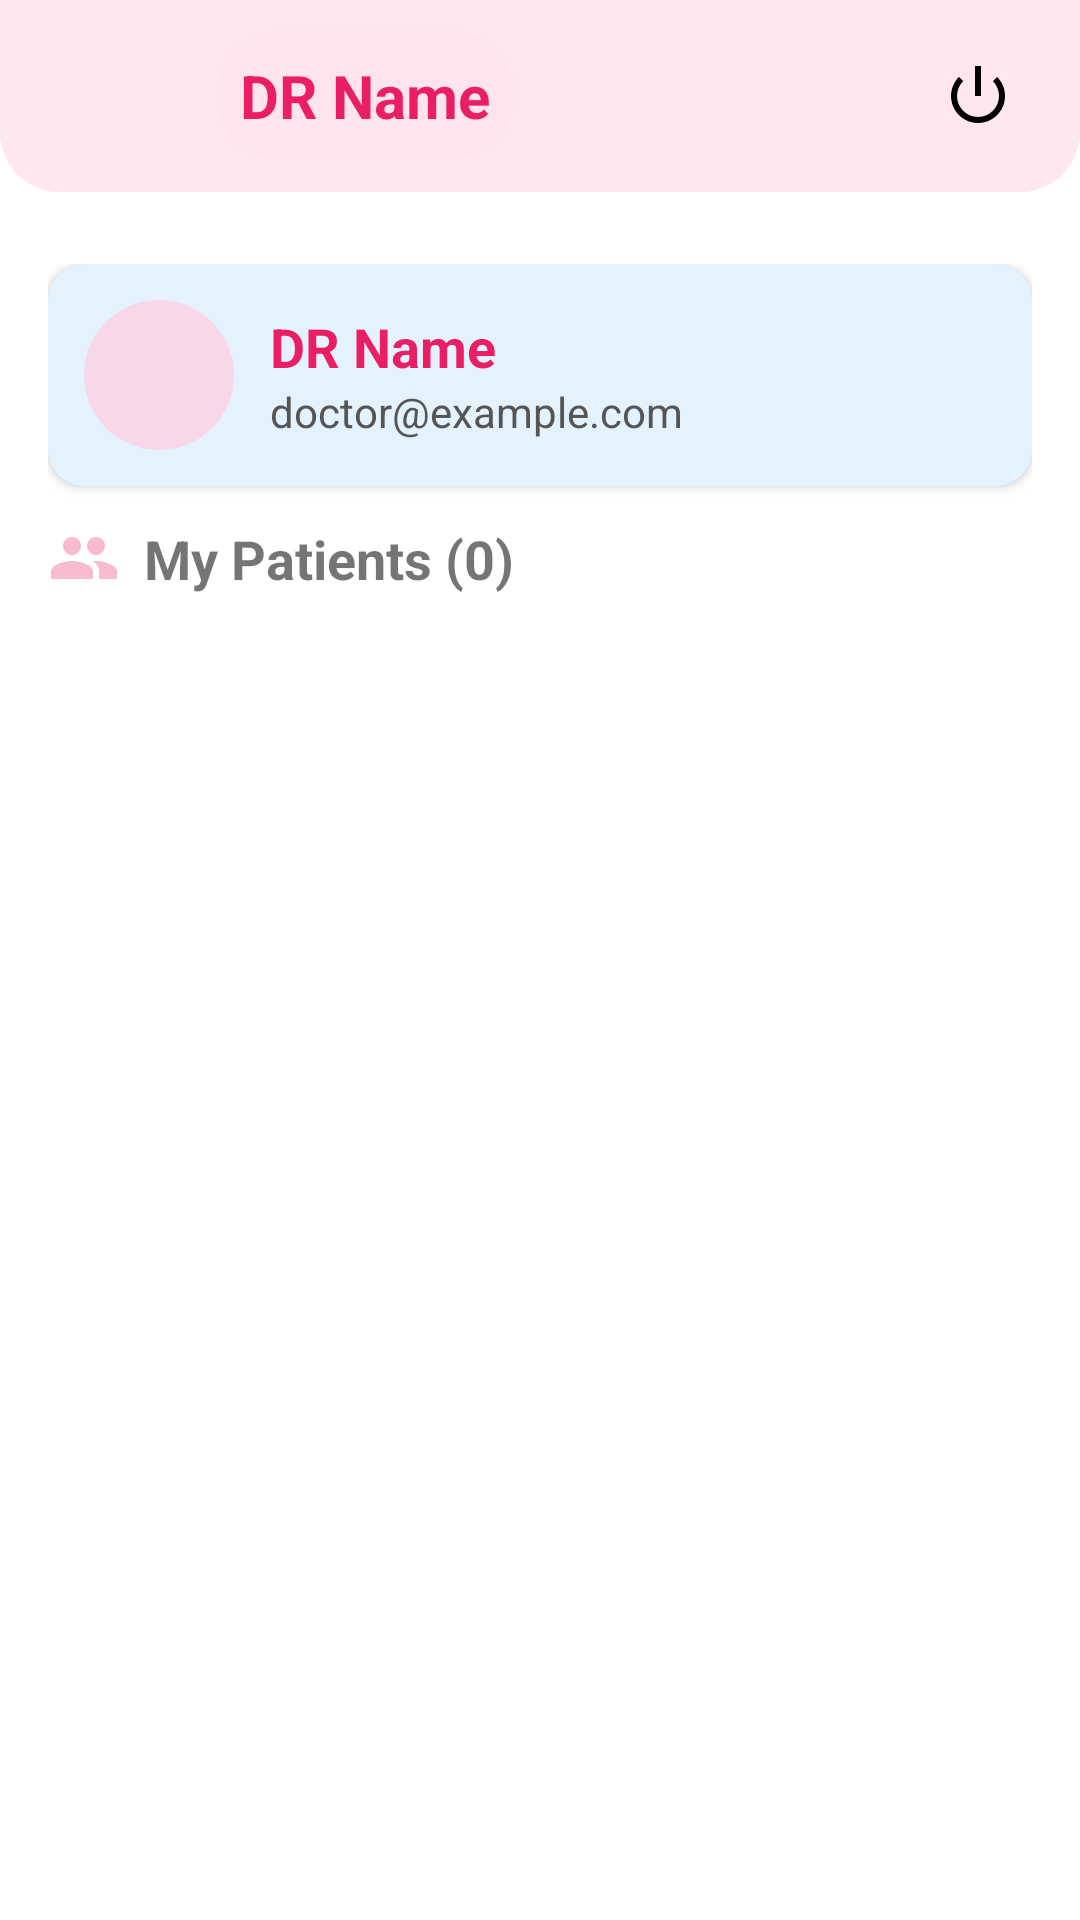

Named icons in this screenshot (1080×1920) and their bounding boxes, bbox(x1, y1, x2, y2):
lock power off: bbox(951, 66, 1005, 123)
